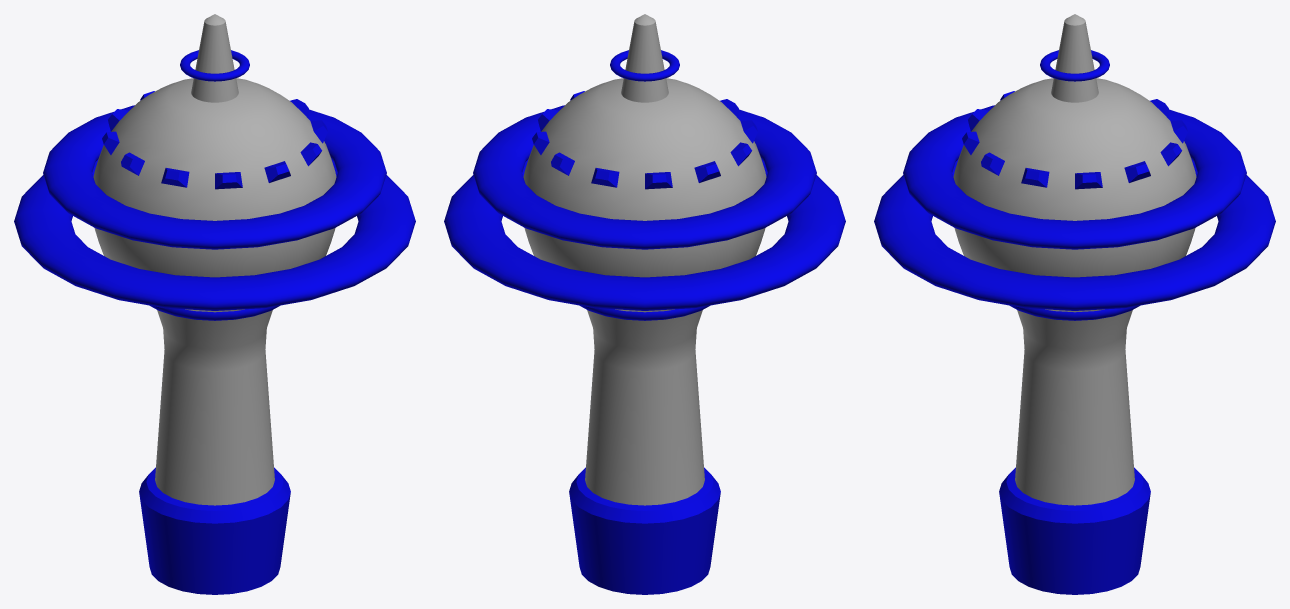
The model's file is prop_building_orb.fbx.
3 renders of one model, left to right at view 1: azimuth 30°, elevation 25°; view 2: azimuth 150°, elevation 25°; view 3: azimuth 270°, elevation 25°, orthographic.
Parts seen in each view (by area): view 1: orb_building1; view 2: orb_building1; view 3: orb_building1.
Part boxes in pixels (x1,y1,x2,y2): orb_building1: (14,14,415,594); orb_building1: (444,14,845,594); orb_building1: (874,14,1275,594).
Size of the model in its own units: 11.06 by 16.8 by 11.06.
